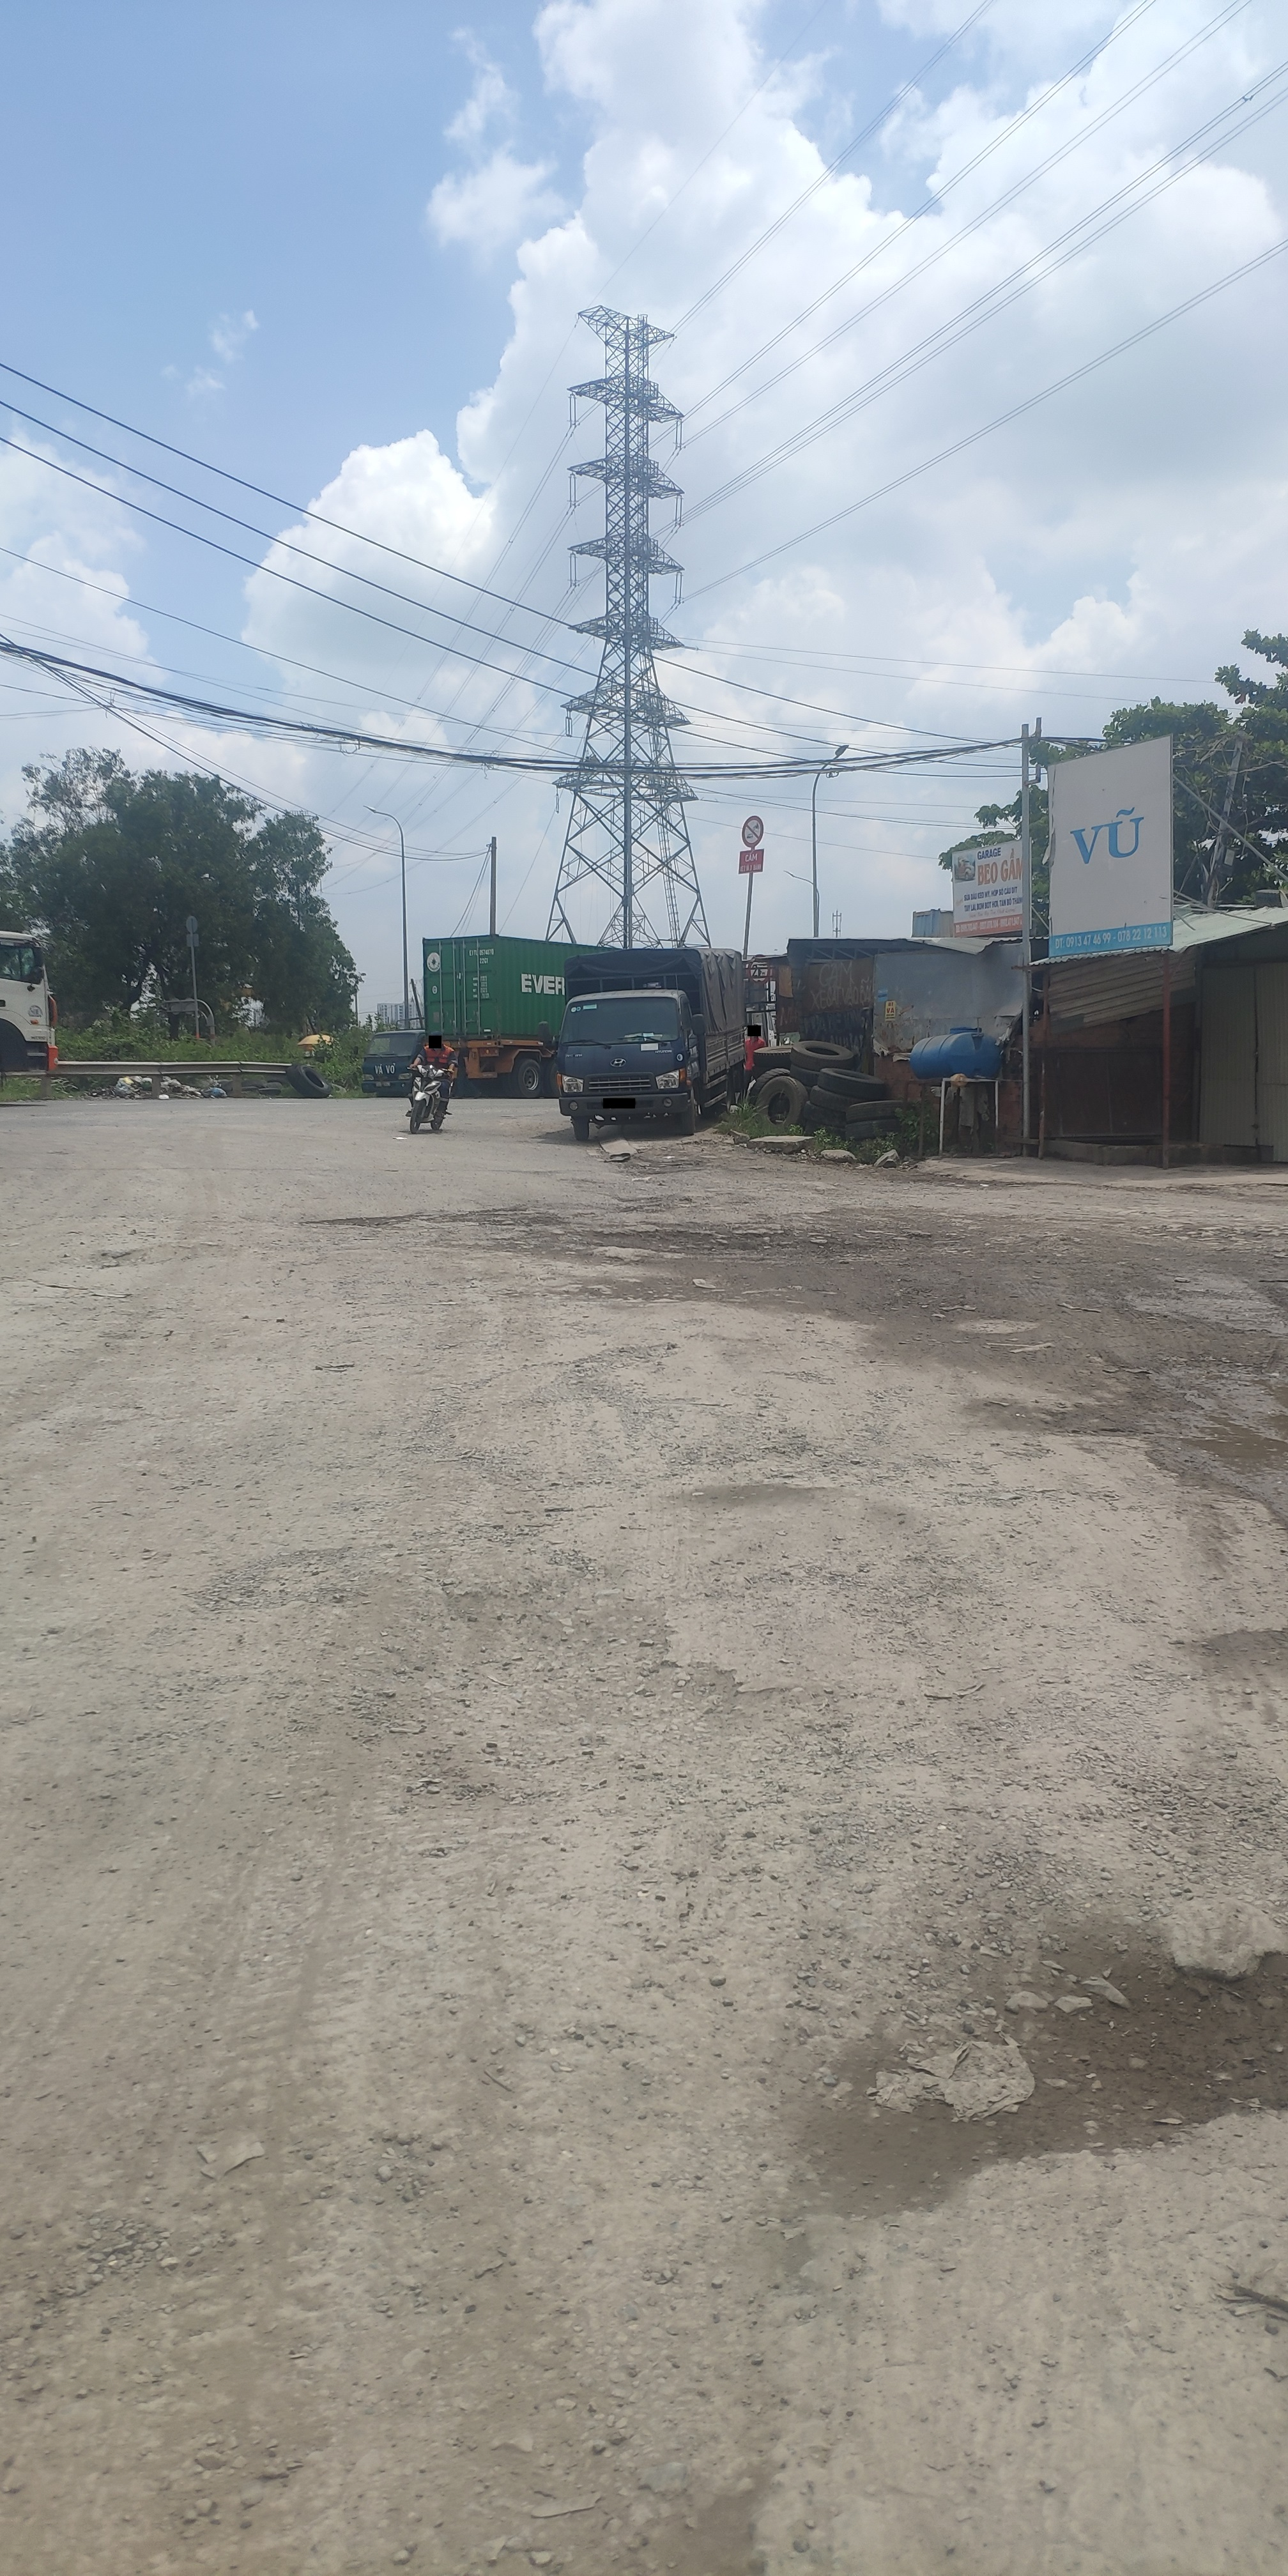hole: (958, 1914, 1288, 2121), (577, 1211, 946, 1276), (1150, 1355, 1288, 1500), (314, 1204, 434, 1242)
